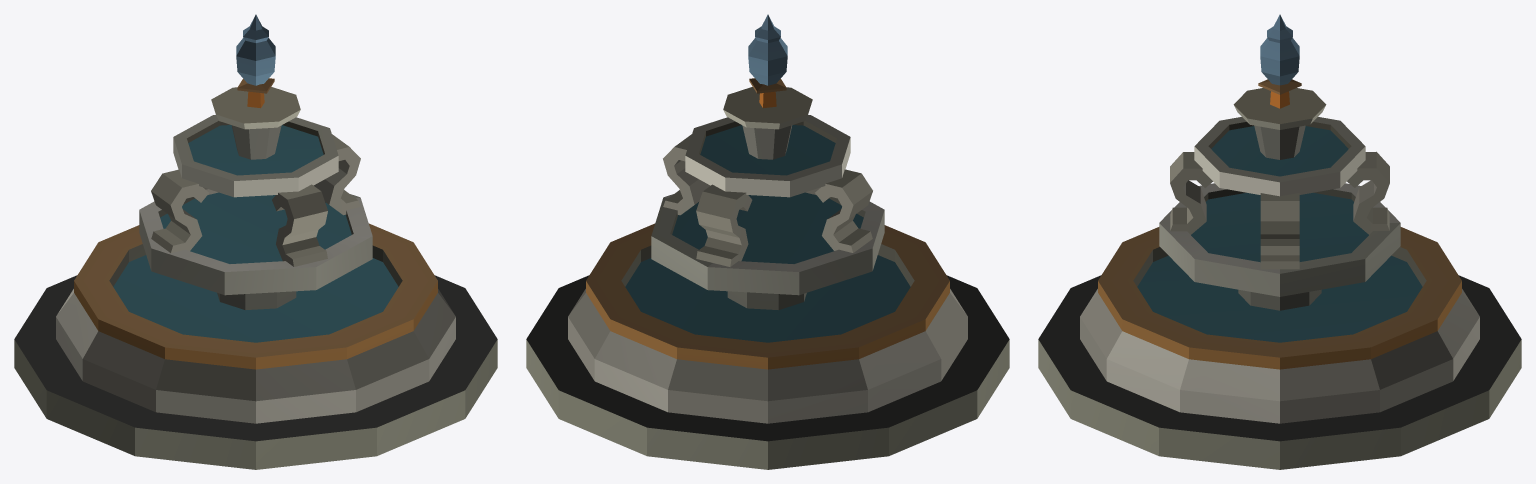
The model's file is city-decor11.fbx.
3 renders of one model, left to right at view 1: azimuth 30°, elevation 25°; view 2: azimuth 150°, elevation 25°; view 3: azimuth 270°, elevation 25°, orthographic.
Parts seen in each view (by area): view 1: city-decor11; view 2: city-decor11; view 3: city-decor11.
Boxes of the visible parts, box(x1,y1,x2,y2) form: city-decor11: box(14, 14, 497, 469); city-decor11: box(526, 14, 1009, 469); city-decor11: box(1038, 14, 1521, 469).
Size of the model in its own units: 1.91 by 1.55 by 1.91.
1 material, 1 textured.
